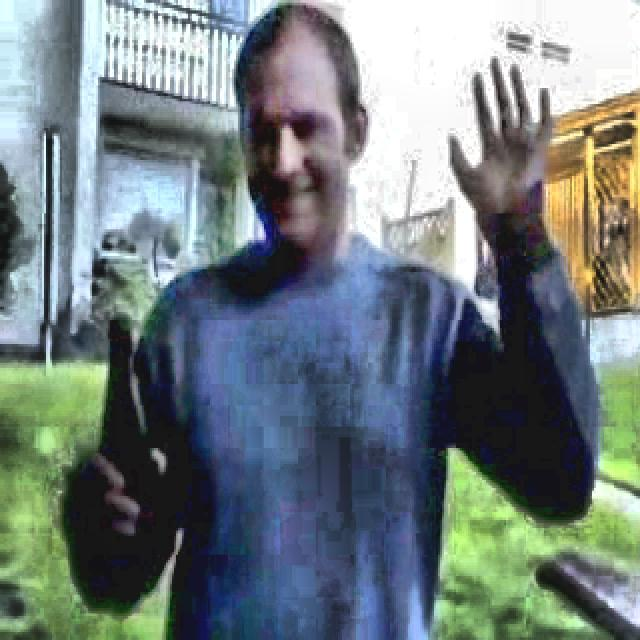L: (59, 6, 598, 637)
